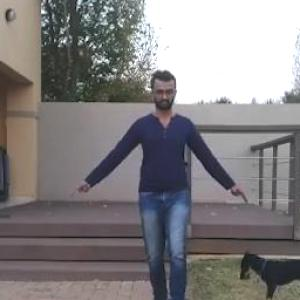land: (81, 83, 230, 299)
